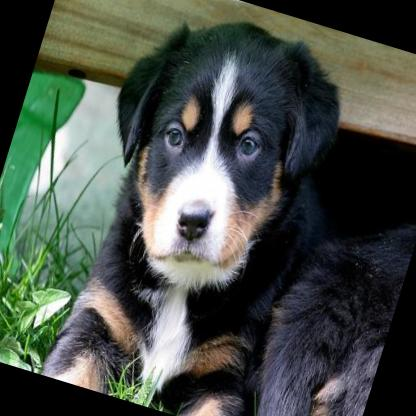Appenzeller: (31, 0, 416, 416)
